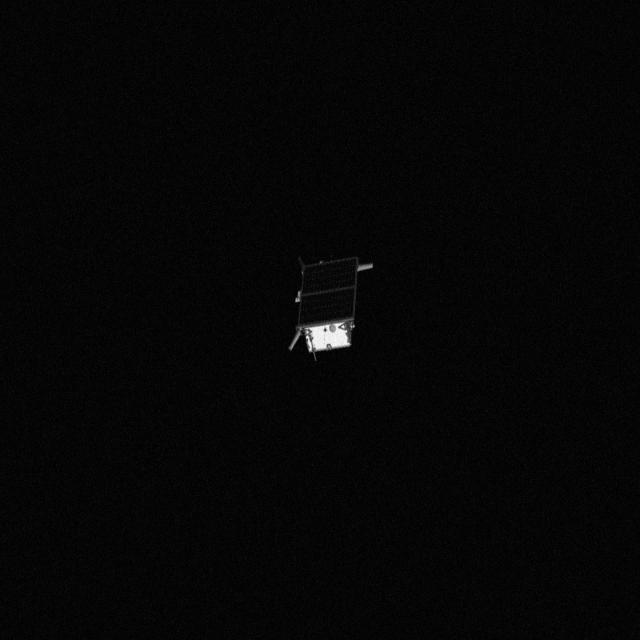medium_debris: (290, 248, 380, 370)
